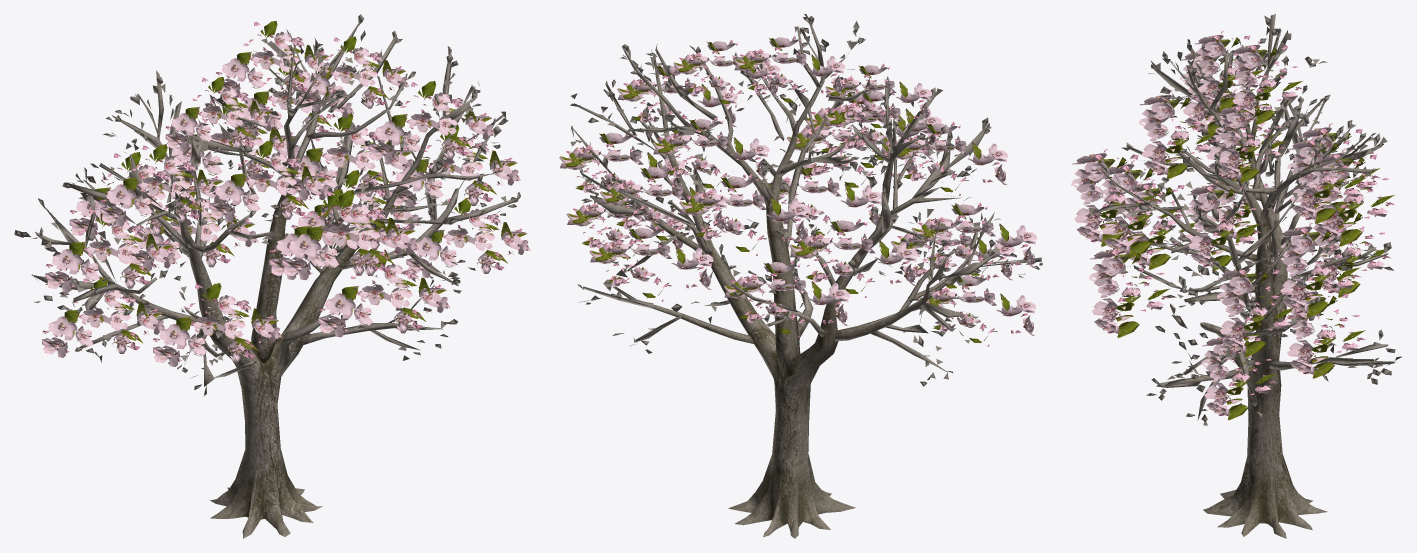
The model's file is midori_sakura_winter_sentinel_dense_v1.glb.
The picture shows the model from 3 angles, left to right: view 1: azimuth 30°, elevation 25°; view 2: azimuth 150°, elevation 25°; view 3: azimuth 270°, elevation 25°; orthographic projection. The views are drawn at different scales.
Visible parts, largest first — view 1: Dense_Sakura_Canopy_20_Clusters, Winter_Sentinel_Unmodified_Trunk; view 2: Dense_Sakura_Canopy_20_Clusters, Winter_Sentinel_Unmodified_Trunk; view 3: Dense_Sakura_Canopy_20_Clusters, Winter_Sentinel_Unmodified_Trunk.
Boxes of the visible parts, x1,y1,x2,y2 form: Dense_Sakura_Canopy_20_Clusters: (42,21,530,366); Winter_Sentinel_Unmodified_Trunk: (14,14,520,538); Dense_Sakura_Canopy_20_Clusters: (559,36,1037,346); Winter_Sentinel_Unmodified_Trunk: (570,14,1042,538); Dense_Sakura_Canopy_20_Clusters: (1071,30,1394,420); Winter_Sentinel_Unmodified_Trunk: (1086,14,1401,538).
Size of the model in its own units: 9.71 by 9.36 by 5.94.
Materials: 2 (2 with a texture image).
